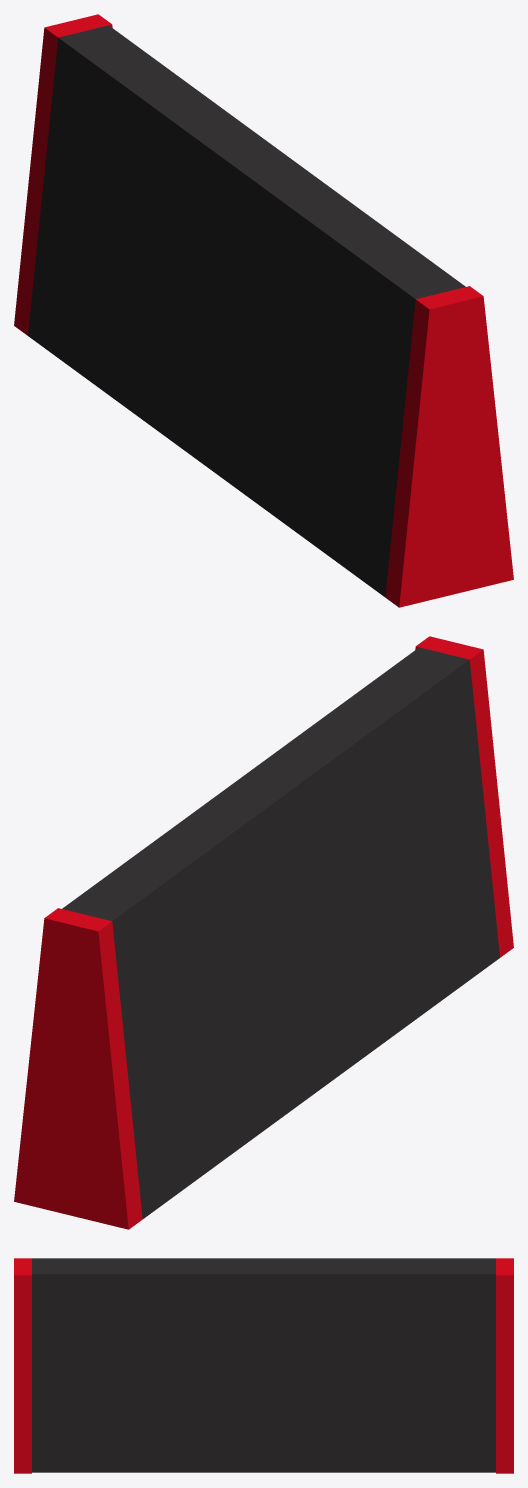
The model's file is Blockade.fbx.
3 views of the same model, one above another, from view 1: azimuth 30°, elevation 25°; view 2: azimuth 150°, elevation 25°; view 3: azimuth 270°, elevation 25° (orthographic). The views are drawn at different scales.
Parts seen in each view (by area): view 1: Cube; view 2: Cube; view 3: Cube.
Part boxes in pixels (<box>): Cube: <box>14,14,513,607</box>; Cube: <box>14,636,513,1229</box>; Cube: <box>14,1258,513,1473</box>.
Bounding box in the file's own units: 413 × 1000 × 2400.
